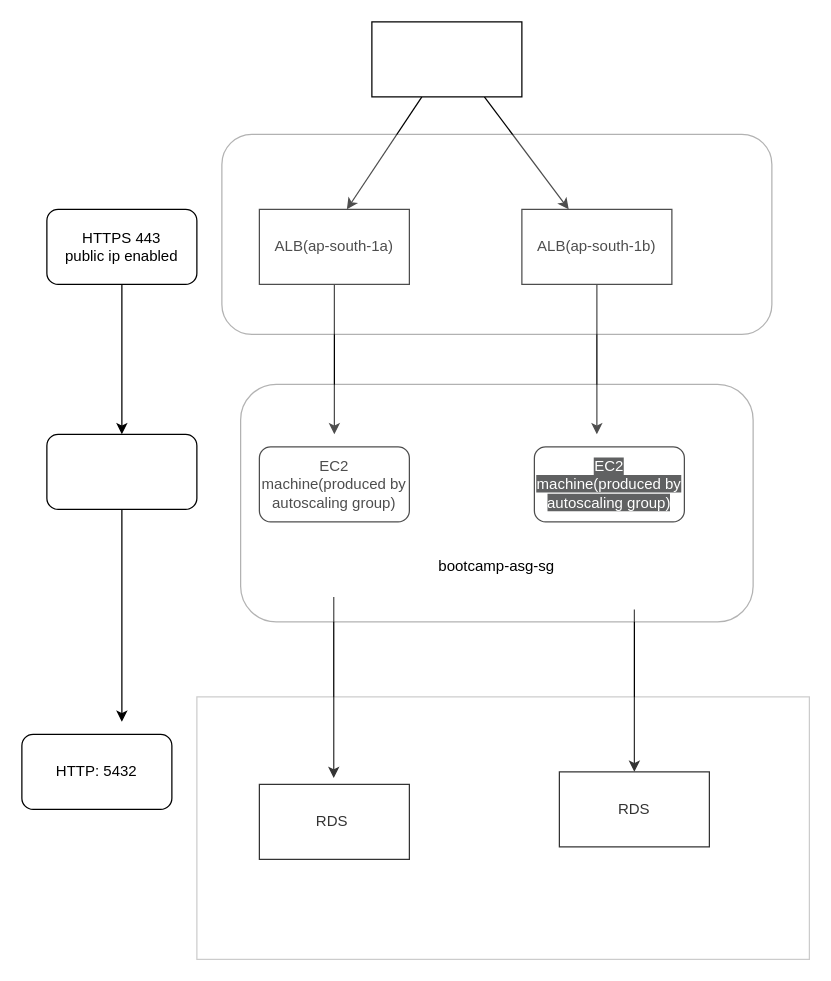
This 831x981 diagram has some shape labels left out. The centre of each missing label's shape, as x and y in pixels:
"bootcamp-alb-sg" belongs at pixel 496 233.
"bootcamp-rds-sg" belongs at pixel 502 827.
"HTTP 8000" belongs at pixel 121 471.
"USER" belongs at pixel 446 59.
